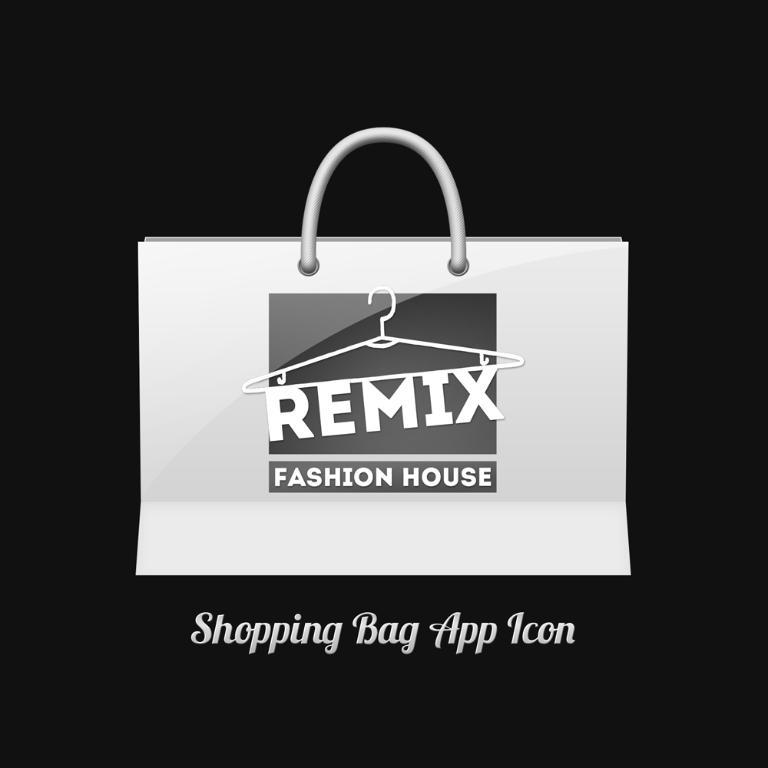Luggage-and-bags: (134, 126, 627, 577)
